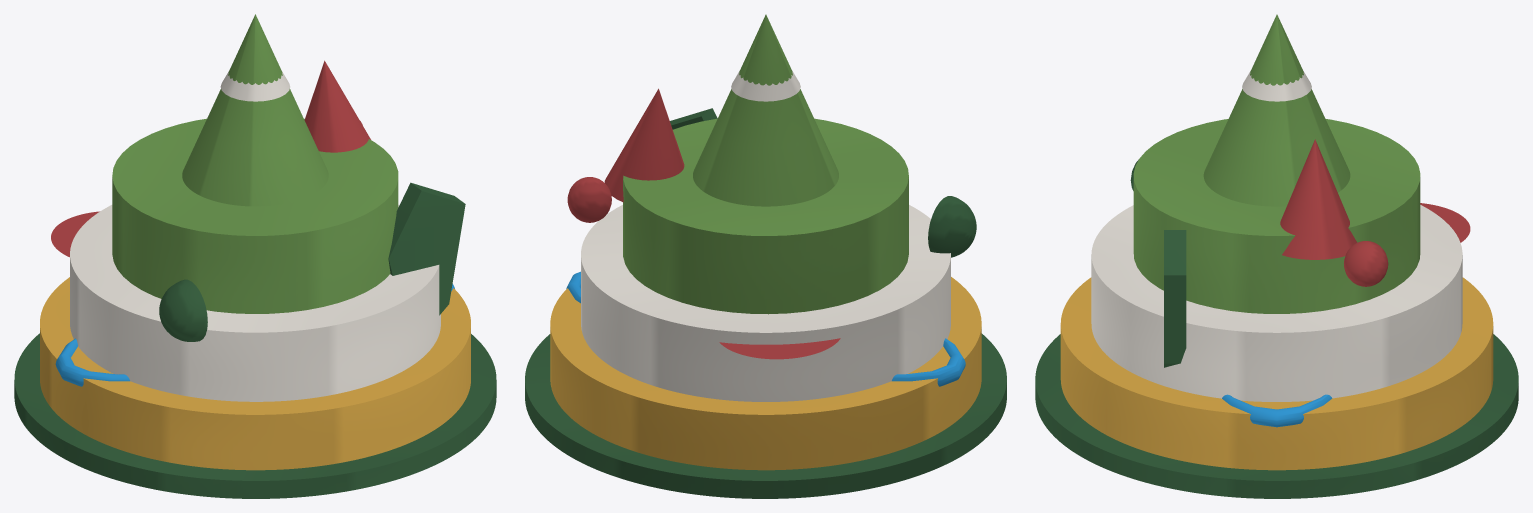
File: 0634_地貌图鉴_石环.glb
The picture shows the model from 3 angles, left to right: view 1: azimuth 30°, elevation 25°; view 2: azimuth 150°, elevation 25°; view 3: azimuth 270°, elevation 25°; orthographic projection.
Parts seen in each view (by area): view 1: card_0634; view 2: card_0634; view 3: card_0634.
Part boxes in pixels (x1=…): card_0634: x1=14, y1=14, x2=496, y2=498; card_0634: x1=525, y1=14, x2=1006, y2=498; card_0634: x1=1035, y1=14, x2=1518, y2=498.
Size of the model in its own units: 1.14 by 1 by 1.14.
